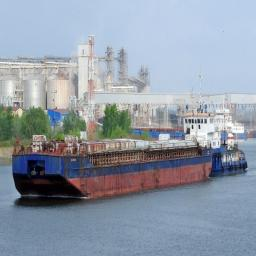tugboat: (168, 102, 250, 185)
